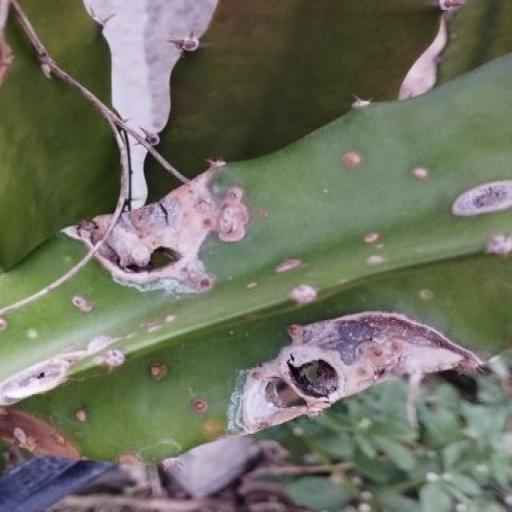stemcanker: (61, 254, 89, 291), (353, 303, 383, 329), (136, 162, 164, 188), (174, 108, 197, 134), (427, 260, 447, 288), (369, 217, 389, 241), (52, 146, 72, 168), (242, 216, 261, 238)
